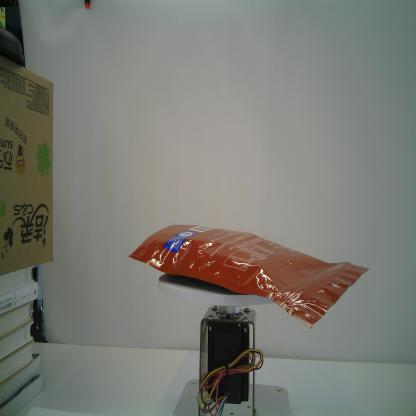Dried Food: (126, 224, 370, 328)
